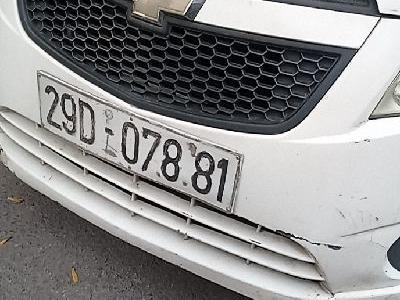lisence: (34, 67, 244, 216)
